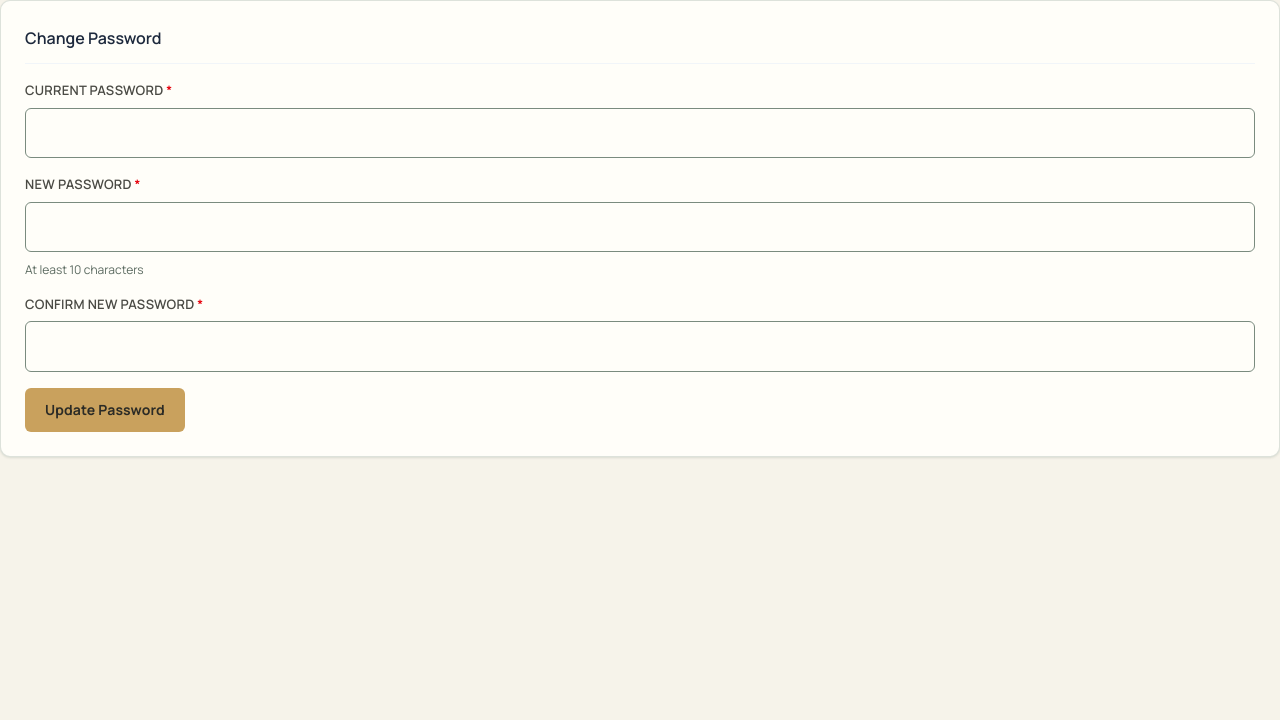
Test case: PasswordSection › shows the server's reason when it refuses
This screenshot has width=1280, height=720.
In the password field labelled "Current Password *": {"x": 640, "y": 133} [25, 108, 1255, 158], type "wrongpassword"
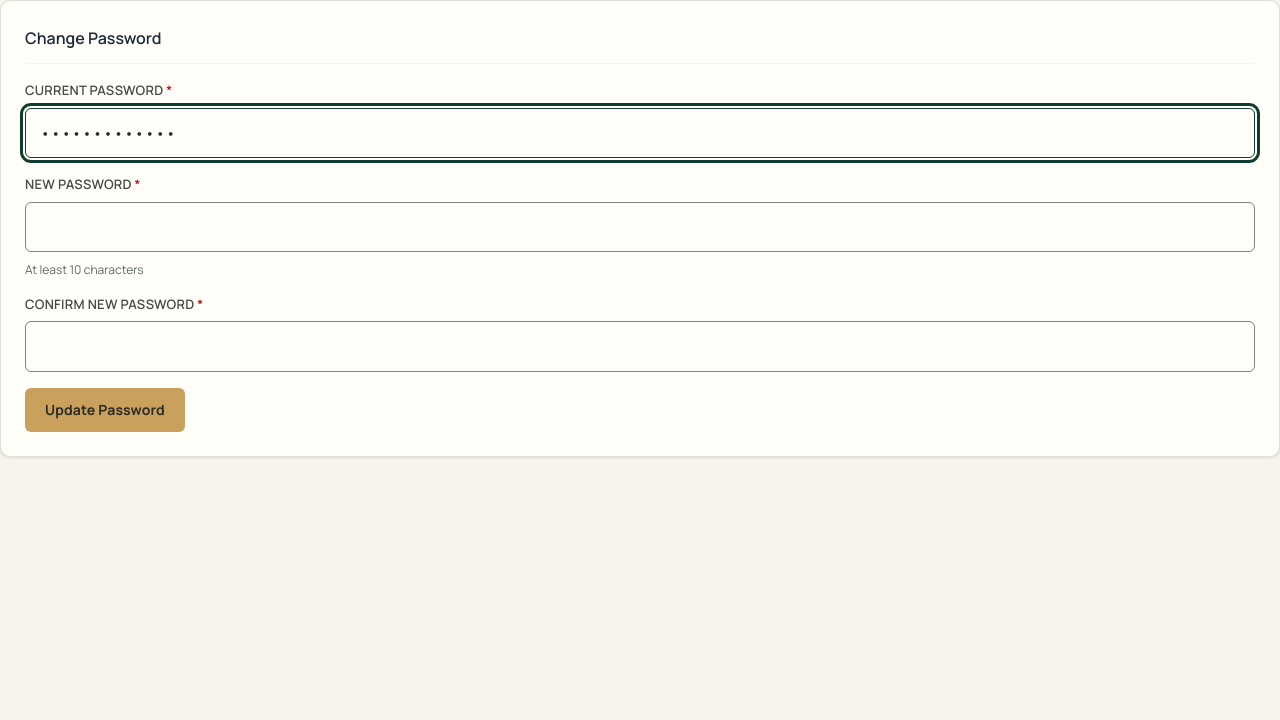
In the password field labelled "New Password *": {"x": 640, "y": 227} [25, 202, 1255, 252], type "brand-new-password"
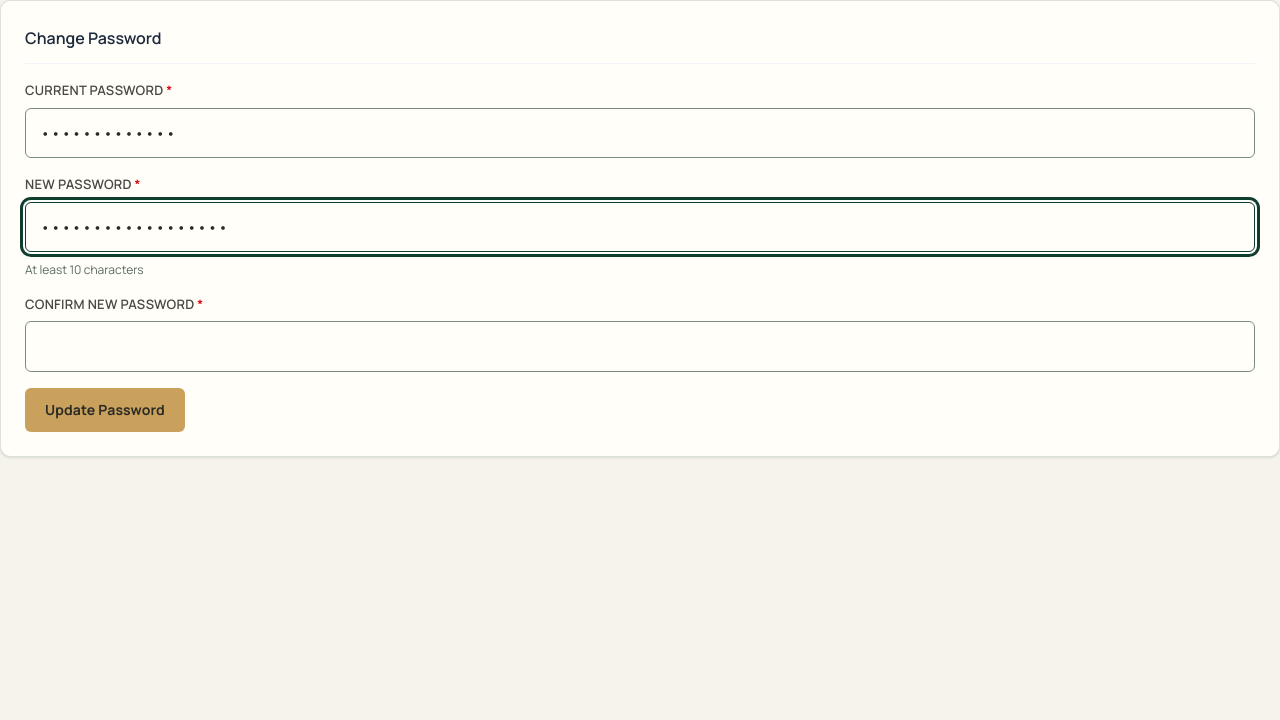
In the password field labelled "Confirm New Password *": {"x": 640, "y": 347} [25, 322, 1255, 372], type "brand-new-password"
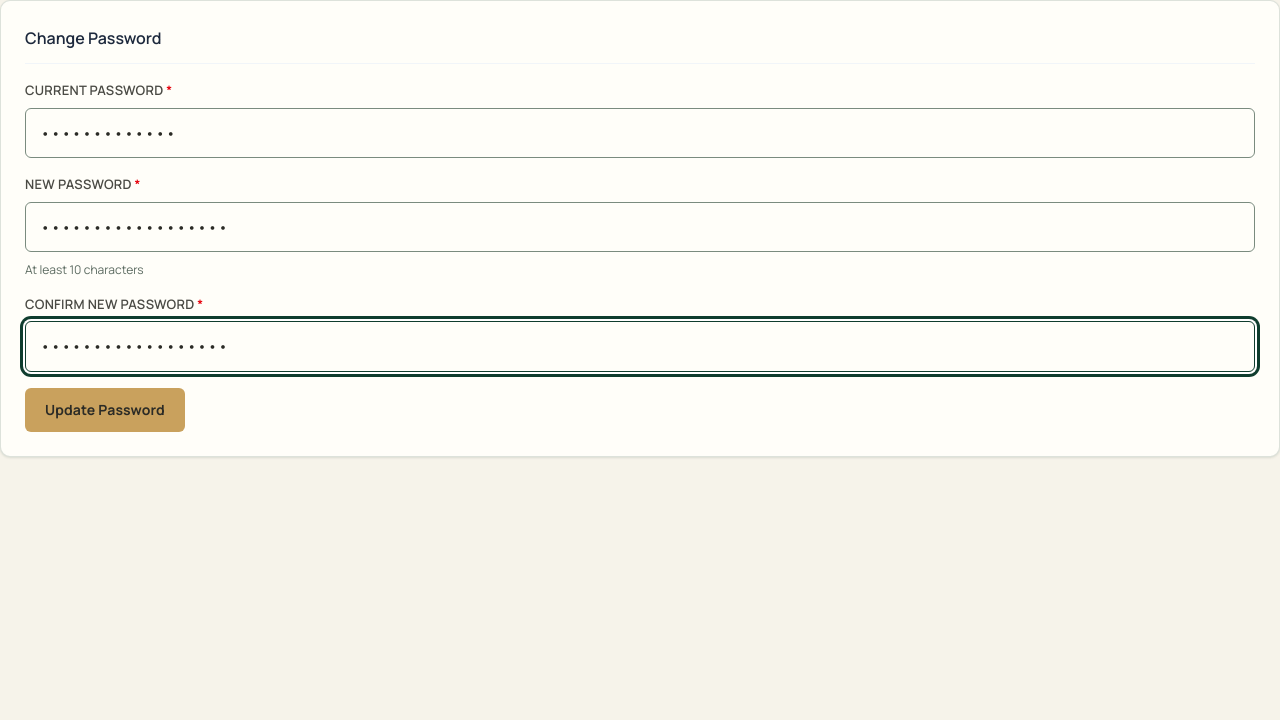
Click the button "Update Password": {"x": 105, "y": 410} [25, 388, 185, 432]
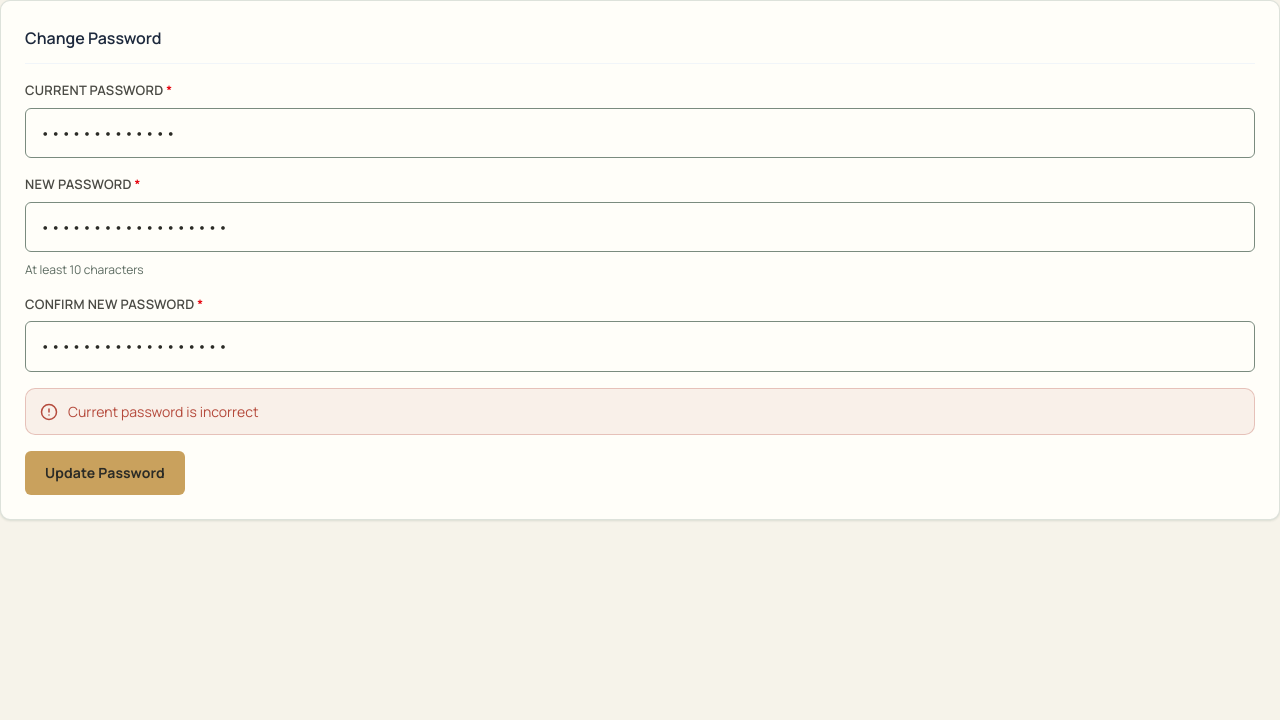
Result: the message reads "Current password is incorrect" at [68, 402, 258, 421]
